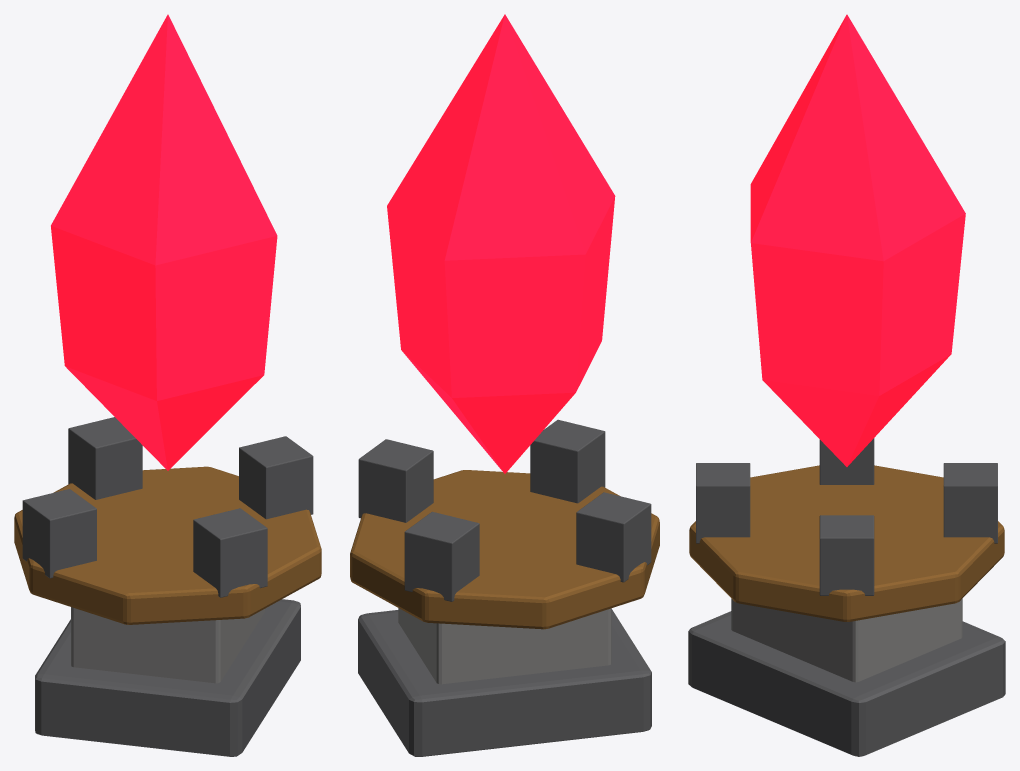
File: ReferenceInspired_MagicStone_Keep.fbx
The picture shows the model from 3 angles, left to right: view 1: azimuth 30°, elevation 25°; view 2: azimuth 150°, elevation 25°; view 3: azimuth 270°, elevation 25°; orthographic projection.
Visible parts, largest first — view 1: Core.008, Pedestal_Top.002, Pedestal_Base.002, Pedestal_Body.002, Pedestal_Crenel_3.001, Pedestal_Crenel_2.001, Pedestal_Crenel_0.001, Pedestal_Crenel_1.001; view 2: Core.008, Pedestal_Top.002, Pedestal_Base.002, Pedestal_Body.002, Pedestal_Crenel_1.001, Pedestal_Crenel_2.001, Pedestal_Crenel_0.001, Pedestal_Crenel_3.001; view 3: Core.008, Pedestal_Top.002, Pedestal_Base.002, Pedestal_Body.002, Pedestal_Crenel_0.001, Pedestal_Crenel_1.001, Pedestal_Crenel_3.001, Pedestal_Crenel_2.001.
Boxes of the visible parts, bbox=[...] form: Core.008: bbox=[51, 14, 277, 470]; Pedestal_Top.002: bbox=[14, 466, 321, 624]; Pedestal_Base.002: bbox=[35, 599, 300, 756]; Pedestal_Body.002: bbox=[71, 607, 264, 683]; Pedestal_Crenel_3.001: bbox=[193, 508, 267, 597]; Pedestal_Crenel_2.001: bbox=[22, 489, 96, 578]; Pedestal_Crenel_0.001: bbox=[239, 436, 313, 519]; Pedestal_Crenel_1.001: bbox=[68, 417, 142, 499]; Core.008: bbox=[387, 14, 615, 473]; Pedestal_Top.002: bbox=[350, 470, 659, 629]; Pedestal_Base.002: bbox=[358, 609, 651, 756]; Pedestal_Body.002: bbox=[398, 608, 611, 684]; Pedestal_Crenel_1.001: bbox=[404, 511, 479, 601]; Pedestal_Crenel_2.001: bbox=[576, 492, 651, 582]; Pedestal_Crenel_0.001: bbox=[358, 439, 433, 522]; Pedestal_Crenel_3.001: bbox=[530, 419, 605, 503]; Core.008: bbox=[750, 14, 965, 466]; Pedestal_Top.002: bbox=[689, 465, 1004, 621]; Pedestal_Base.002: bbox=[688, 611, 1005, 756]; Pedestal_Body.002: bbox=[731, 598, 962, 682]; Pedestal_Crenel_0.001: bbox=[819, 515, 874, 595]; Pedestal_Crenel_1.001: bbox=[943, 463, 997, 543]; Pedestal_Crenel_3.001: bbox=[696, 463, 750, 543]; Pedestal_Crenel_2.001: bbox=[819, 438, 874, 484].
Bounding box in the file's own units: 1.28 × 3.02 × 1.28.
